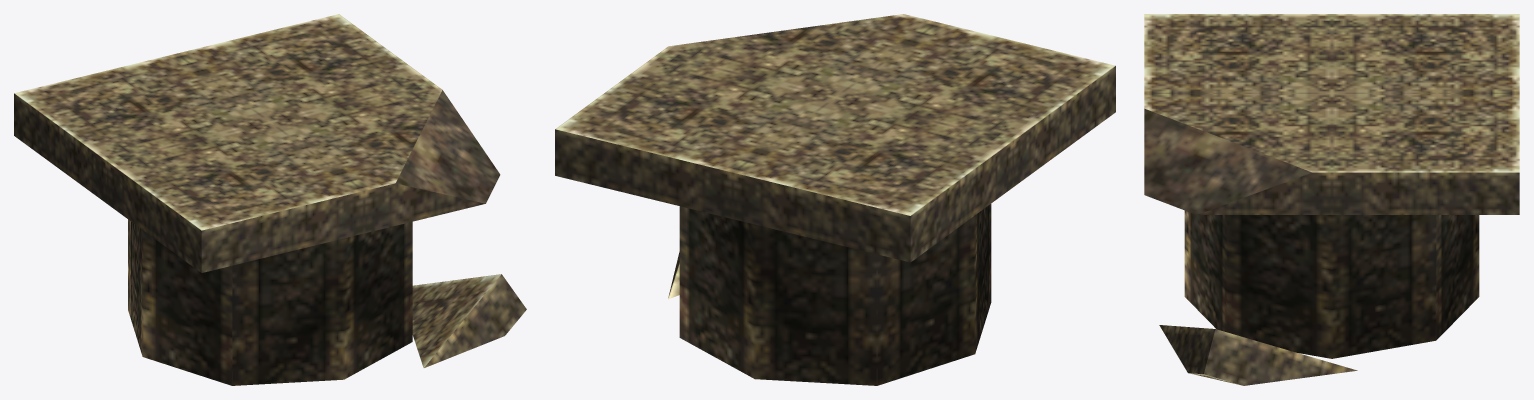
Rendered from general_obj_bigtower12_01.fbx.
3 views of the same model, side by side, from view 1: azimuth 30°, elevation 25°; view 2: azimuth 150°, elevation 25°; view 3: azimuth 270°, elevation 25° (orthographic). The views are drawn at different scales.
Visible parts, largest first — view 1: Sphere01; view 2: Sphere01; view 3: Sphere01.
Boxes of the visible parts, x1,y1,x2,y2 form: Sphere01: (14, 14, 526, 385); Sphere01: (555, 14, 1115, 385); Sphere01: (1144, 14, 1519, 385).
Bounding box in the file's own units: 4.37 × 2.46 × 4.
